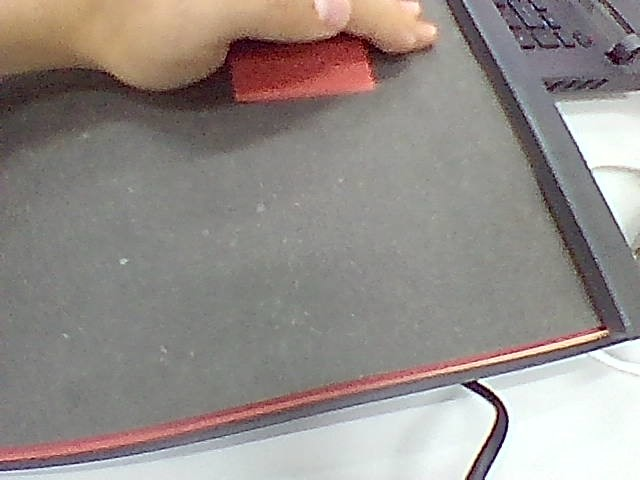card: (231, 36, 375, 101)
